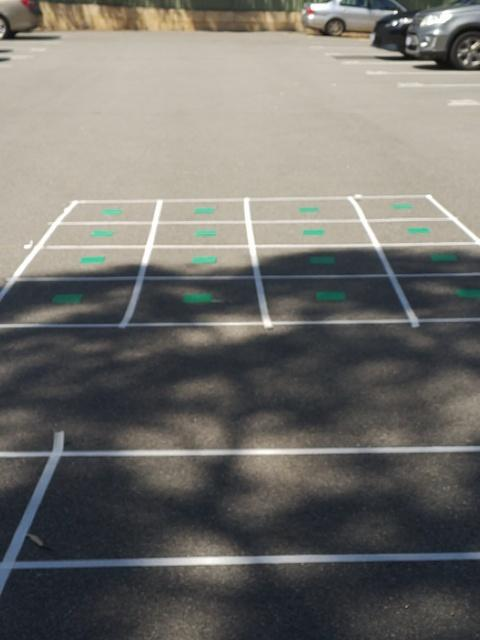weed: (50, 293, 81, 306), (182, 292, 211, 304), (316, 290, 345, 302), (454, 287, 480, 299), (90, 226, 114, 238), (192, 252, 216, 264), (429, 252, 457, 262), (97, 208, 130, 216), (80, 253, 104, 264), (192, 228, 216, 239), (310, 255, 334, 264), (406, 226, 429, 234), (303, 227, 323, 236), (390, 203, 413, 210), (298, 206, 320, 213), (193, 208, 213, 214)
